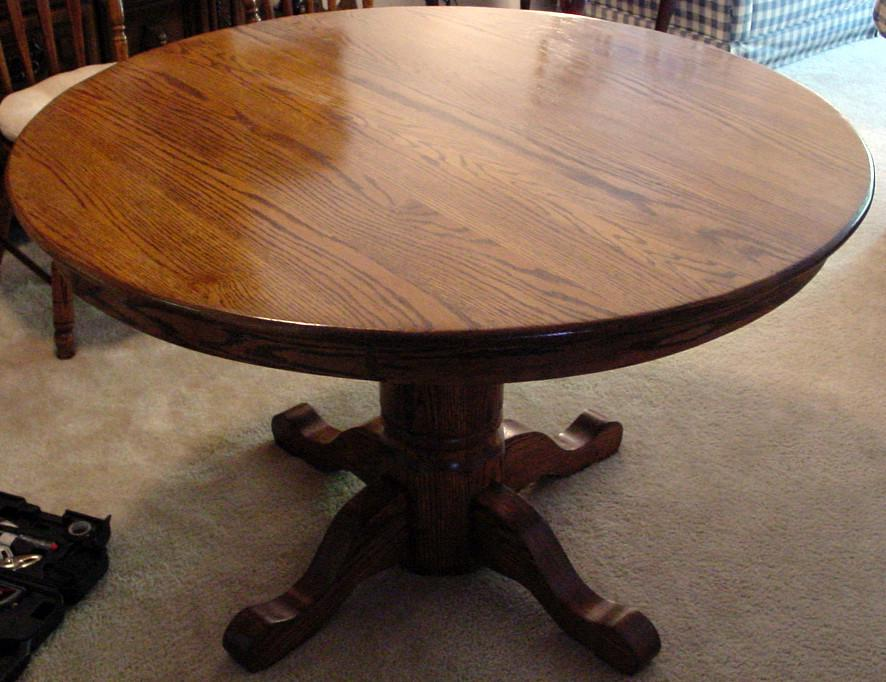table: (6, 4, 876, 676)
